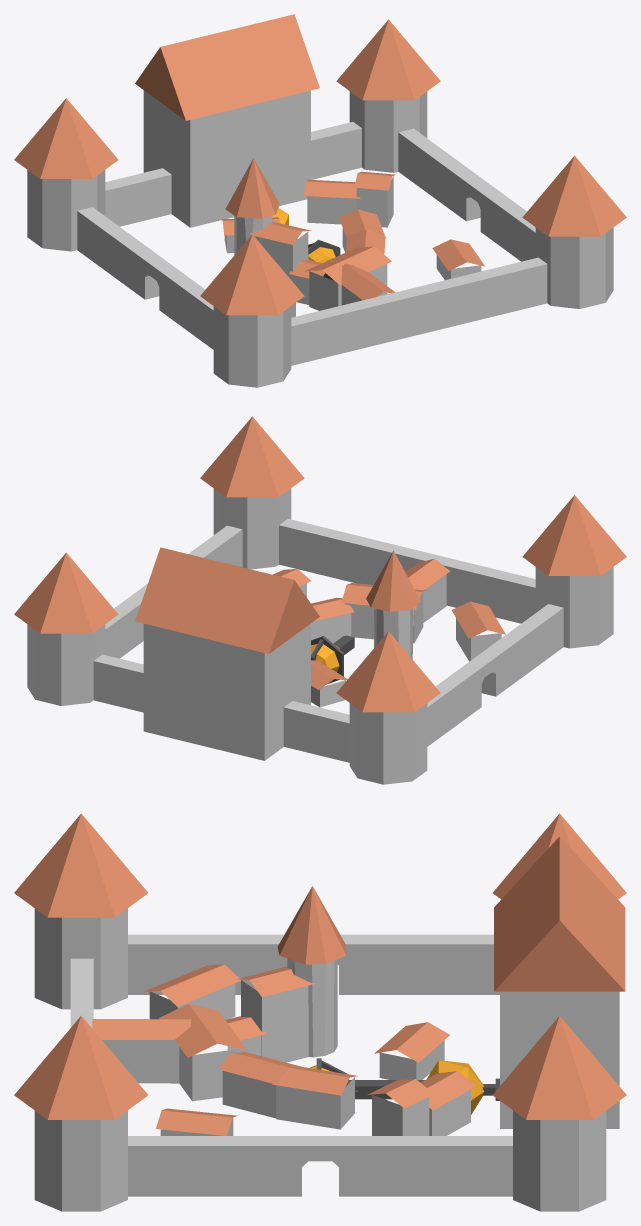
File: castle-prod.glb
The picture shows the model from 3 angles, top to bottom: view 1: azimuth 30°, elevation 25°; view 2: azimuth 150°, elevation 25°; view 3: azimuth 270°, elevation 25°; orthographic projection. The views are drawn at different scales.
Visible parts, largest first — view 1: castle, orb; view 2: castle, orb; view 3: castle, scepter.
Part boxes in pixels (box(x1,y1,x2,y2)): castle: box(14, 14, 626, 387); orb: box(308, 239, 340, 262); castle: box(14, 416, 626, 784); orb: box(311, 636, 343, 683); castle: box(14, 813, 626, 1211); scepter: box(345, 1060, 499, 1114).
Bounding box in the file's own units: 0.9949 × 0.4505 × 1.03.
